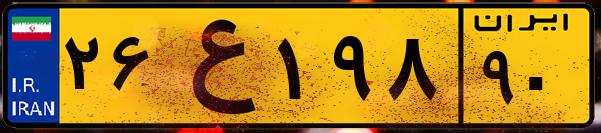0: (525, 38, 570, 115)
1: (270, 28, 330, 110)
2: (57, 26, 110, 100)
6: (110, 28, 158, 98)
8: (385, 28, 445, 110)
9: (330, 28, 385, 110), (475, 38, 525, 113)
ع: (158, 12, 270, 120)
